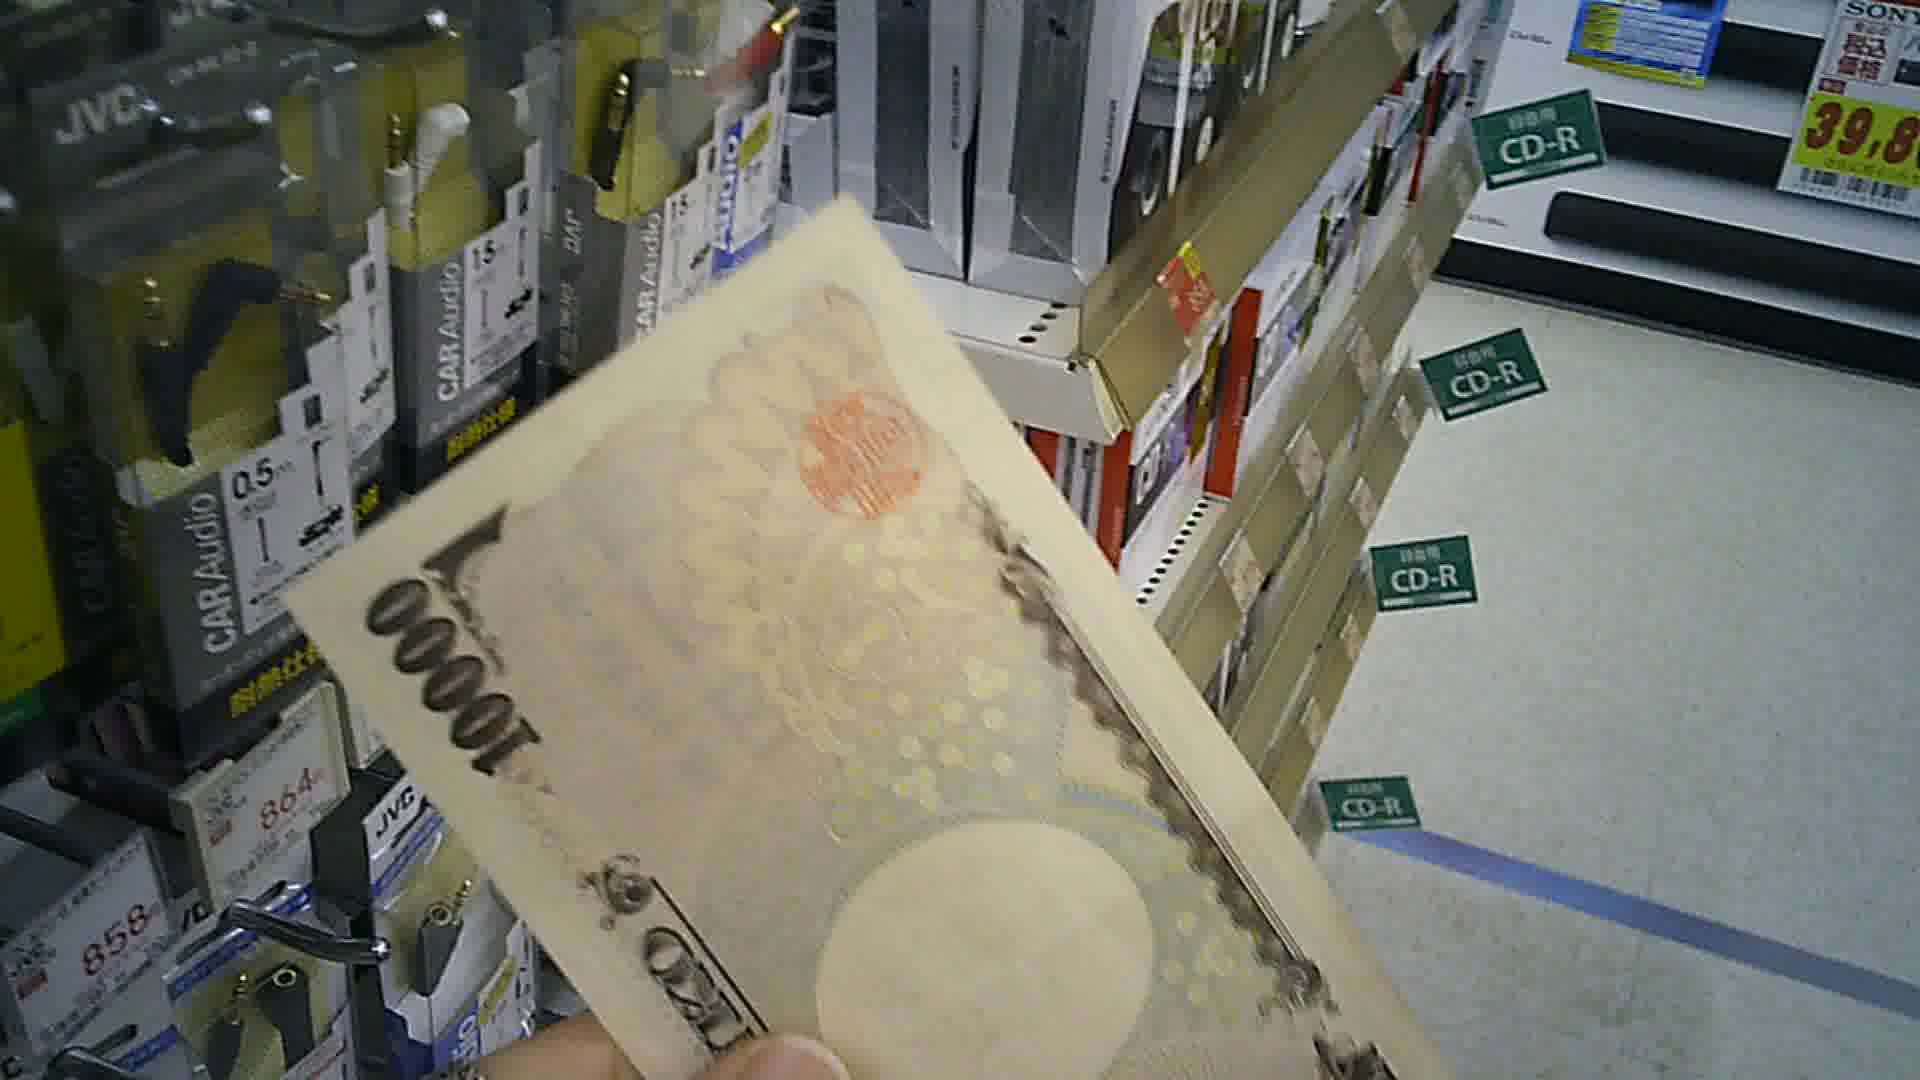10,000 Yen: (287, 252, 1440, 1079)
